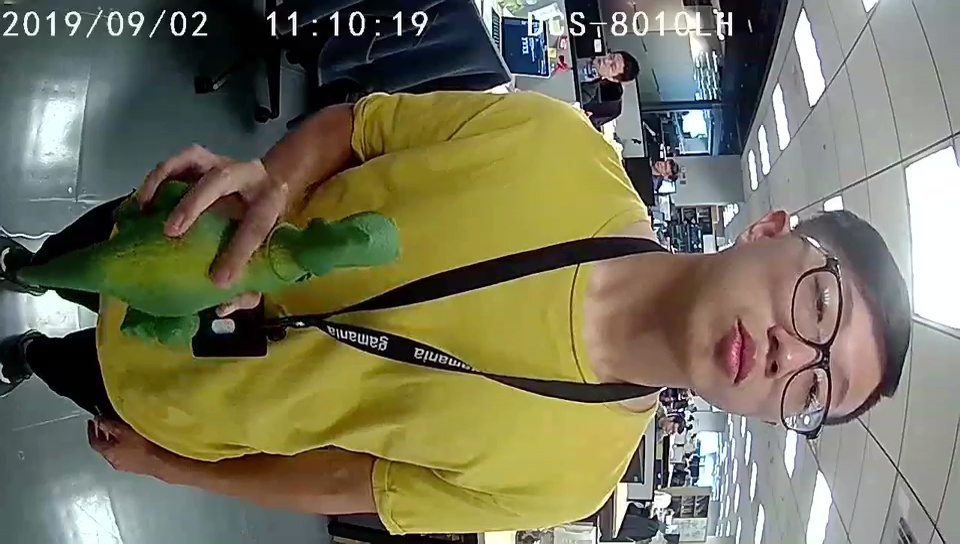rex: (111, 195, 403, 348)
